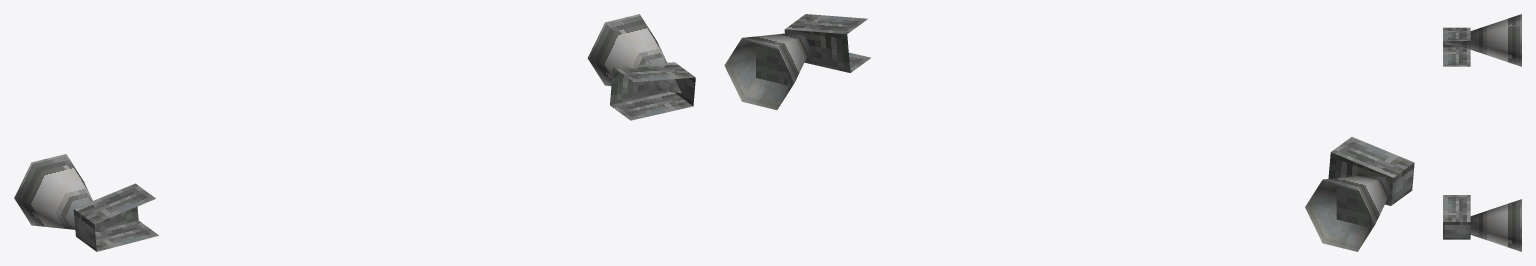
The model's file is ykl37r_booster_s01_l2.fbx.
The picture shows the model from 3 angles, left to right: view 1: azimuth 30°, elevation 25°; view 2: azimuth 150°, elevation 25°; view 3: azimuth 270°, elevation 25°; orthographic projection. The views are drawn at different scales.
Visible parts, largest first — view 1: mesh_node; view 2: mesh_node; view 3: mesh_node.
Boxes of the visible parts, box(x1,y1,x2,y2) form: mesh_node: box(14, 14, 695, 251); mesh_node: box(724, 14, 1414, 251); mesh_node: box(1443, 14, 1521, 251).
Size of the model in its own units: 17.77 by 1.67 by 2.85.
1 material, 1 textured.
